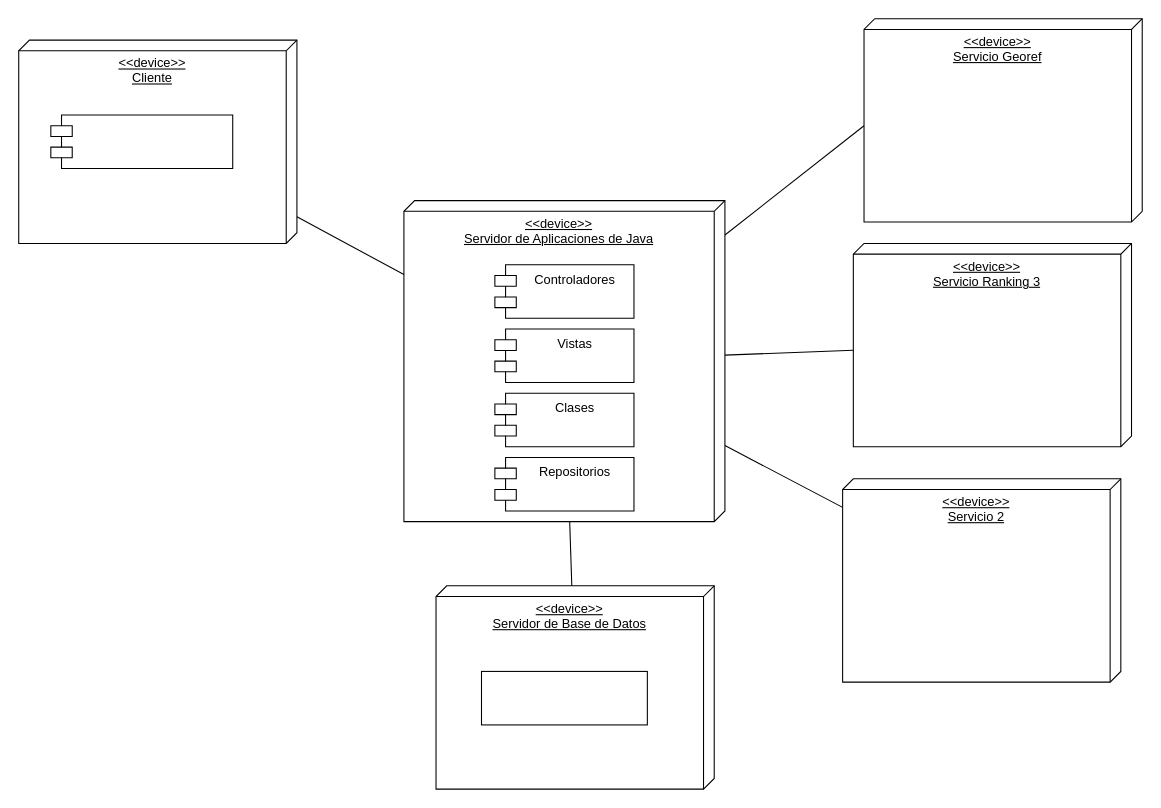
Image size: 1161x808. Some labels were removed from this diagram. The centre of each missing label's shape, as x and y in pixels:
"<<artifact>> Base de Datos MySQL" goes at point (563, 697).
"Software de Navegador" goes at point (141, 141).
